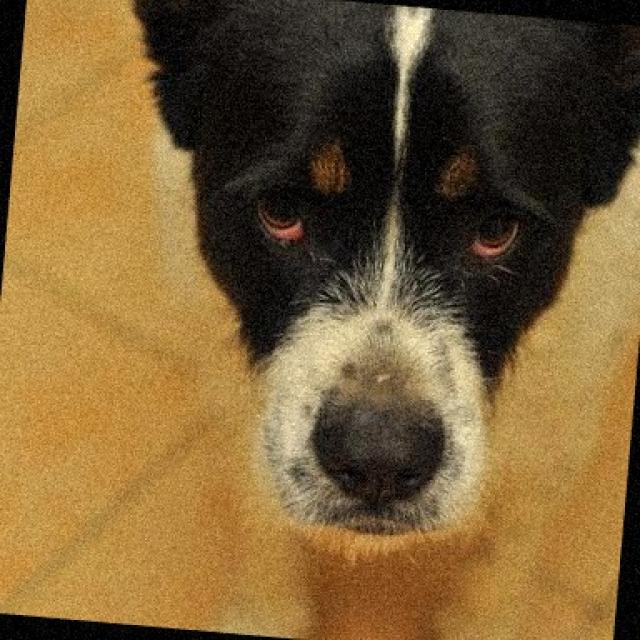sad: (124, 0, 629, 572)
